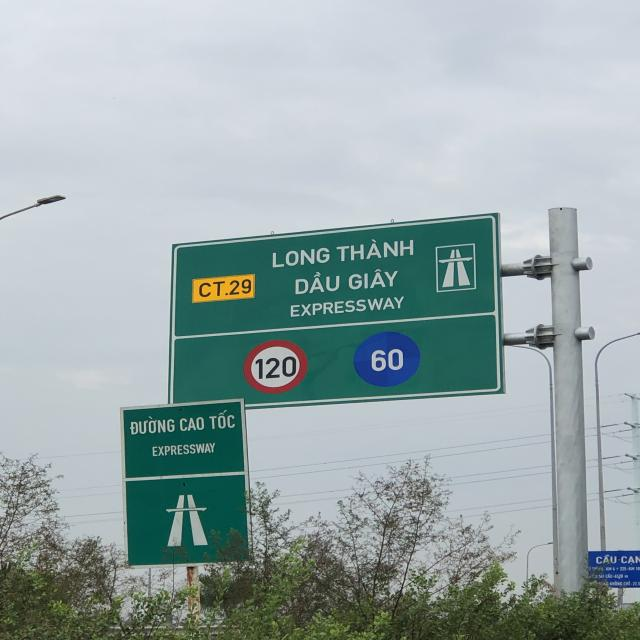Bien bao toc do toi thieu cho phep: (348, 328, 423, 391)
